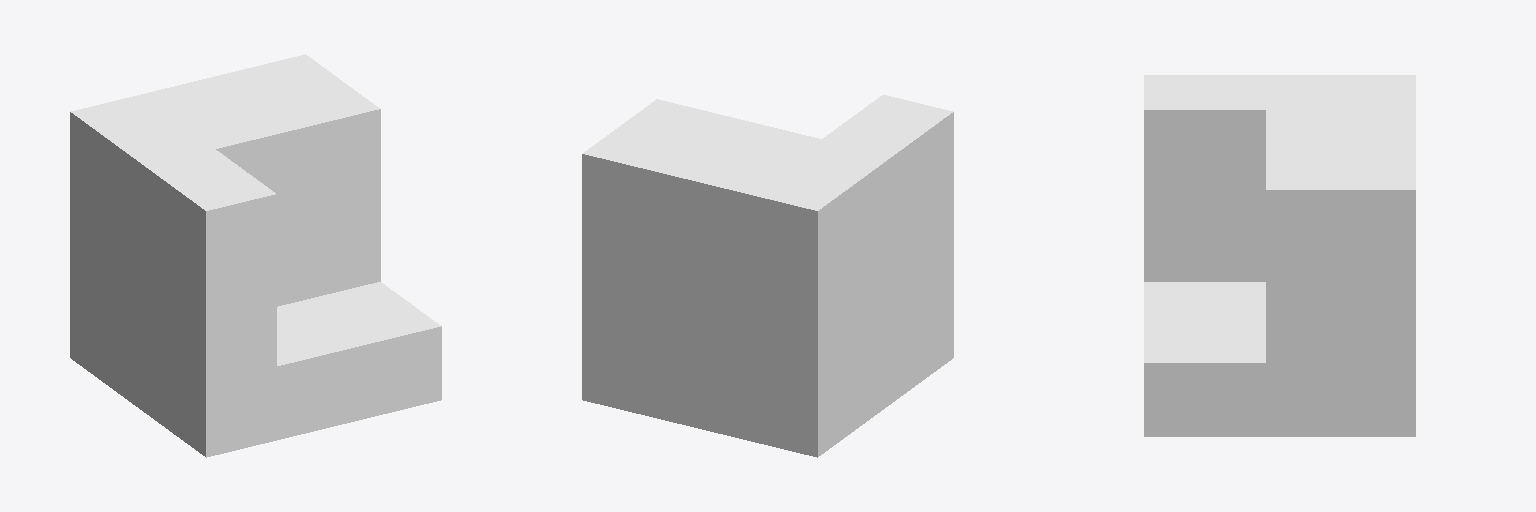
File: incorner_piece.obj
3 renders of one model, left to right at view 1: azimuth 30°, elevation 25°; view 2: azimuth 150°, elevation 25°; view 3: azimuth 270°, elevation 25°, orthographic.
Parts seen in each view (by area): view 1: incorner_piece; view 2: incorner_piece; view 3: incorner_piece.
Part boxes in pixels (x1,y1,x2,y2): incorner_piece: (70,54,441,457); incorner_piece: (582,95,953,457); incorner_piece: (1144,75,1415,436).
Size of the model in its own units: 20 by 20 by 20.